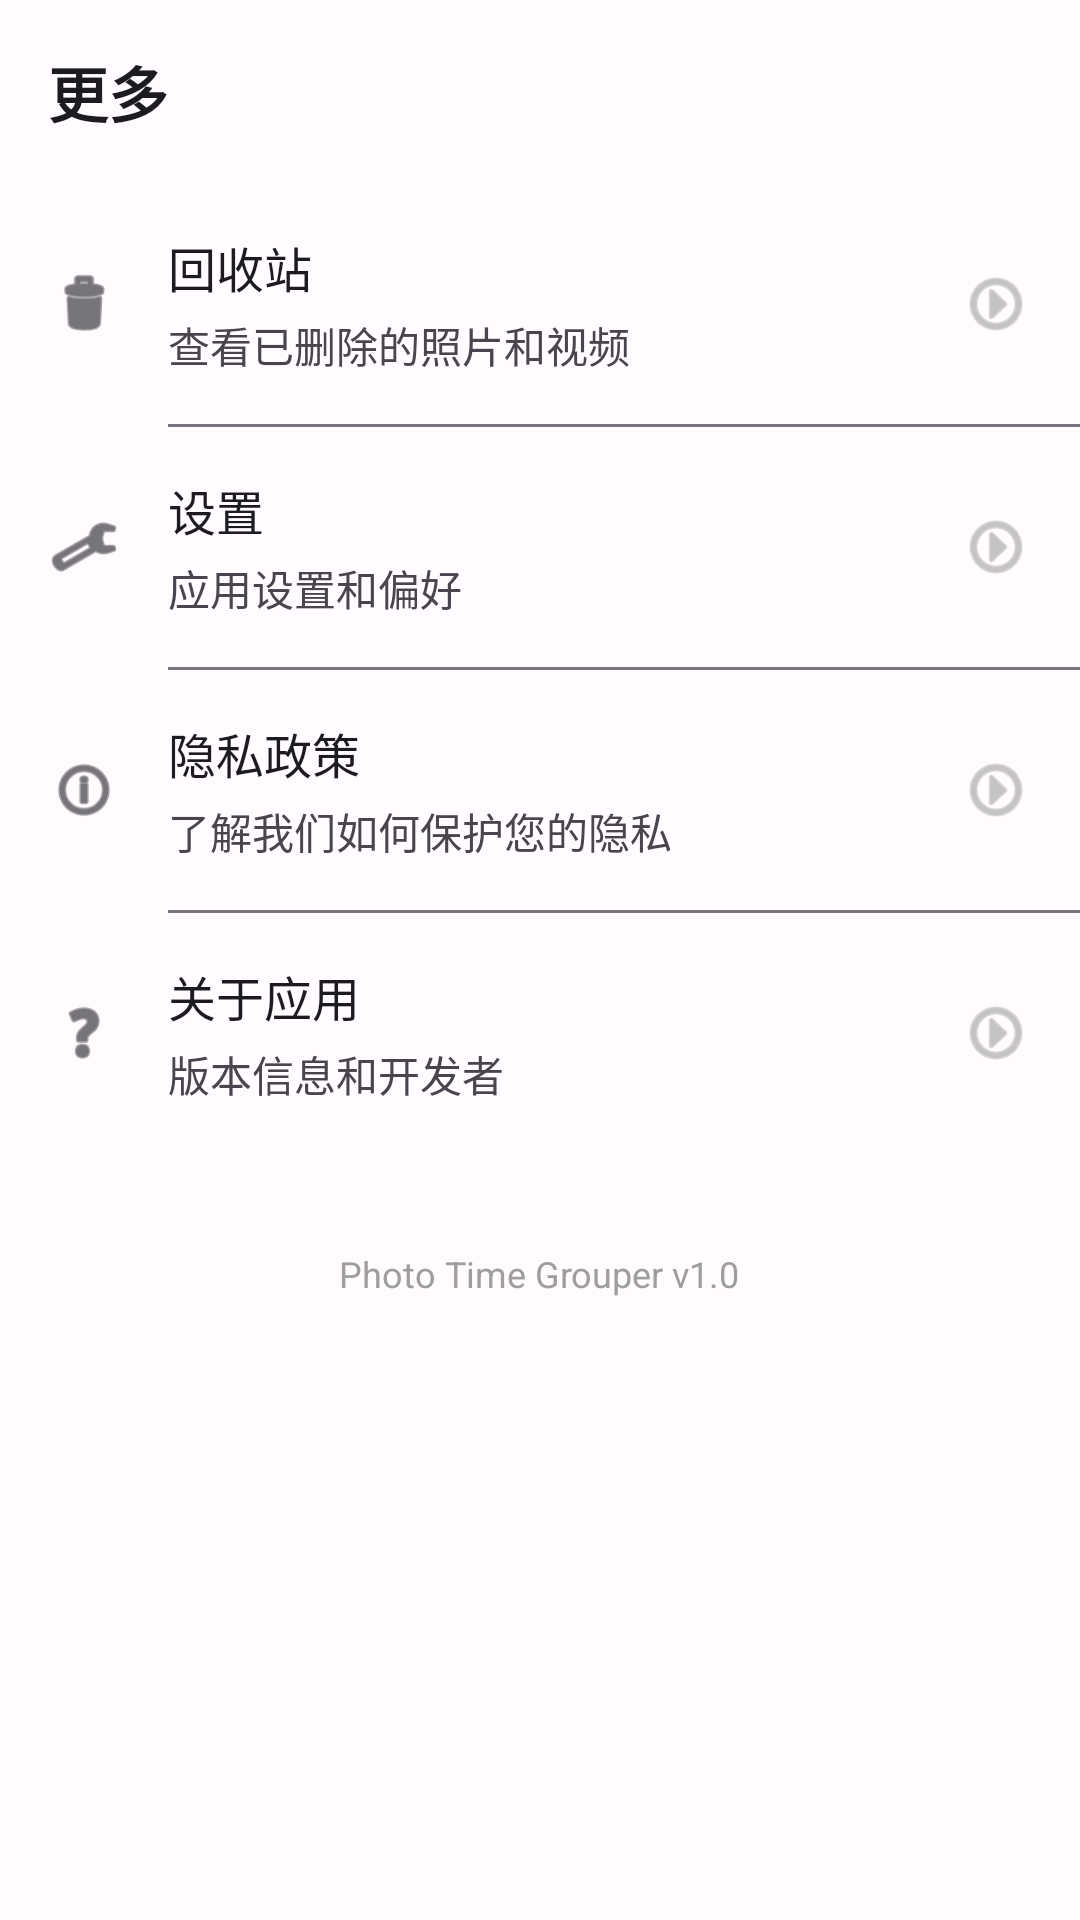

Named icons in this screenshot (1080 x 1920) and their centers, point (x, y):
delete: point (84, 303)
help: point (84, 1033)
info details: point (84, 790)
preferences: point (83, 547)
